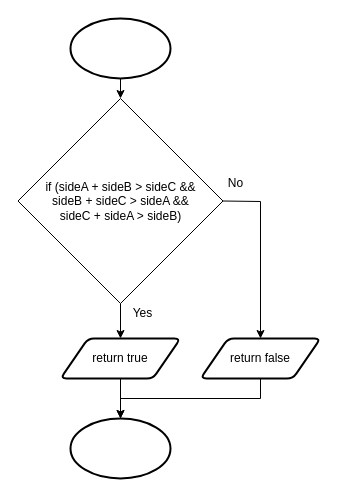
The diagram is 338 pixels wide and 496 high, and some of its shapes have lost their labels. Each missing label, with the centre of its shape:
"Start" goes at (x=120, y=48).
"Stop" goes at (x=120, y=448).
